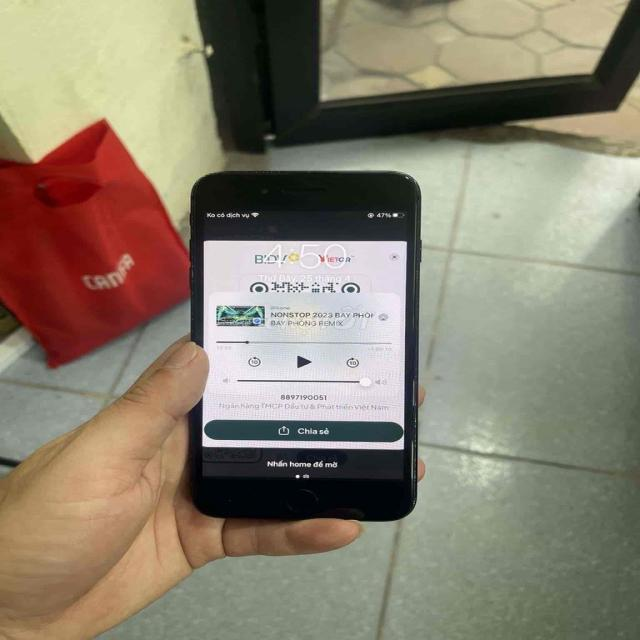gen_7_8: (167, 168, 428, 528)
